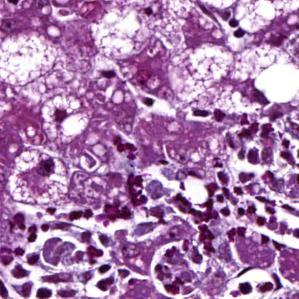ballooning: (166, 43, 234, 106), (5, 149, 70, 205), (39, 93, 92, 145)
